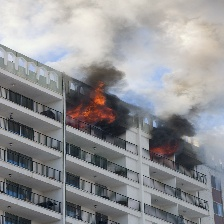fire: (65, 90, 115, 124), (150, 146, 175, 156)
smoke: (23, 2, 224, 103), (144, 114, 195, 146)
